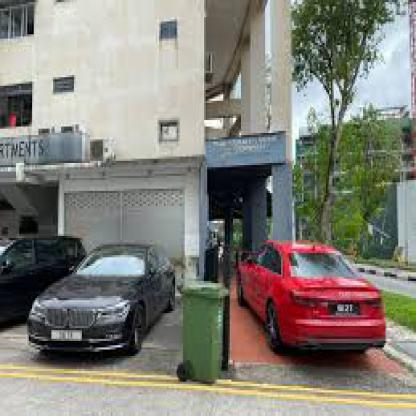car: (236, 230, 402, 362), (29, 240, 178, 356), (0, 227, 87, 321)
